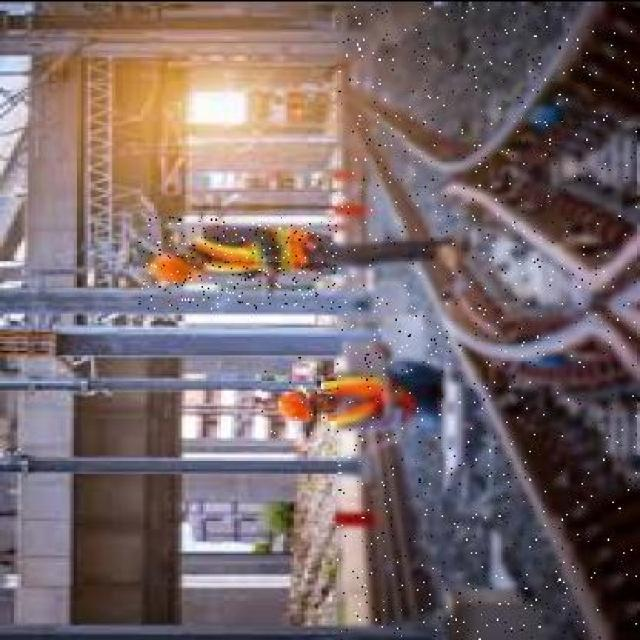danger: (138, 216, 472, 307), (262, 355, 442, 435)
rail: (337, 5, 637, 640)
